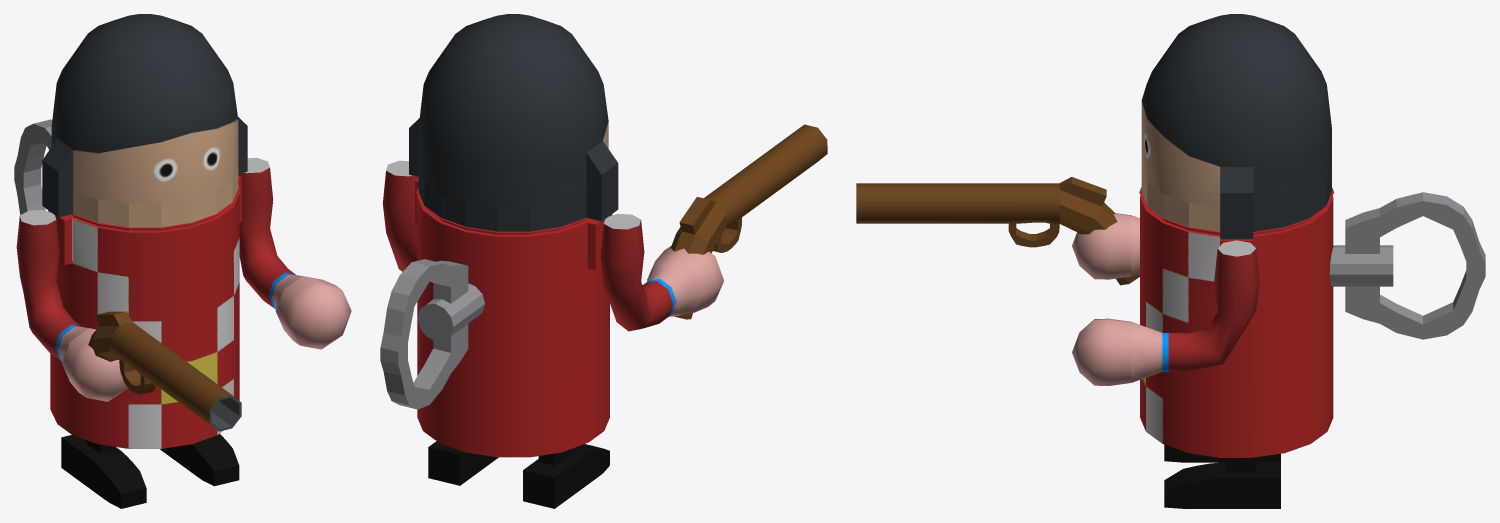
File: Texture_unit_gun.fbx
3 views of the same model, side by side, from view 1: azimuth 30°, elevation 25°; view 2: azimuth 150°, elevation 25°; view 3: azimuth 270°, elevation 25° (orthographic). The views are drawn at different scales.
Parts seen in each view (by area): view 1: Sphere002, Object003, Object002, Cylinder001, Object005, Object001, Object004; view 2: Sphere002, Object001, Object002, Cylinder001, Object005, Object003, Object004; view 3: Sphere002, Cylinder001, Object001, Object003, Object004, Object002, Object005.
Boxes of the visible parts, x1=… form: Sphere002: x1=42, y1=14, x2=247, y2=448; Object003: x1=238, y1=157, x2=351, y2=349; Object002: x1=16, y1=210, x2=128, y2=401; Cylinder001: x1=75, y1=311, x2=241, y2=431; Object005: x1=61, y1=435, x2=146, y2=508; Object001: x1=14, y1=119, x2=52, y2=214; Object004: x1=160, y1=433, x2=239, y2=486; Sphere002: x1=409, y1=14, x2=618, y2=457; Object001: x1=380, y1=259, x2=484, y2=409; Object002: x1=600, y1=213, x2=723, y2=331; Cylinder001: x1=671, y1=124, x2=827, y2=319; Object005: x1=523, y1=444, x2=609, y2=508; Object003: x1=382, y1=160, x2=418, y2=271; Object004: x1=428, y1=441, x2=498, y2=485; Sphere002: x1=1139, y1=14, x2=1334, y2=457; Cylinder001: x1=856, y1=177, x2=1139, y2=285; Object001: x1=1329, y1=192, x2=1485, y2=339; Object003: x1=1072, y1=240, x2=1259, y2=385; Object004: x1=1164, y1=457, x2=1280, y2=508; Object002: x1=1072, y1=213, x2=1139, y2=279; Object005: x1=1164, y1=444, x2=1280, y2=462.
Bounding box in the file's own units: 50.24 × 97.69 × 78.06.
Materials: 5 (5 with a texture image).
